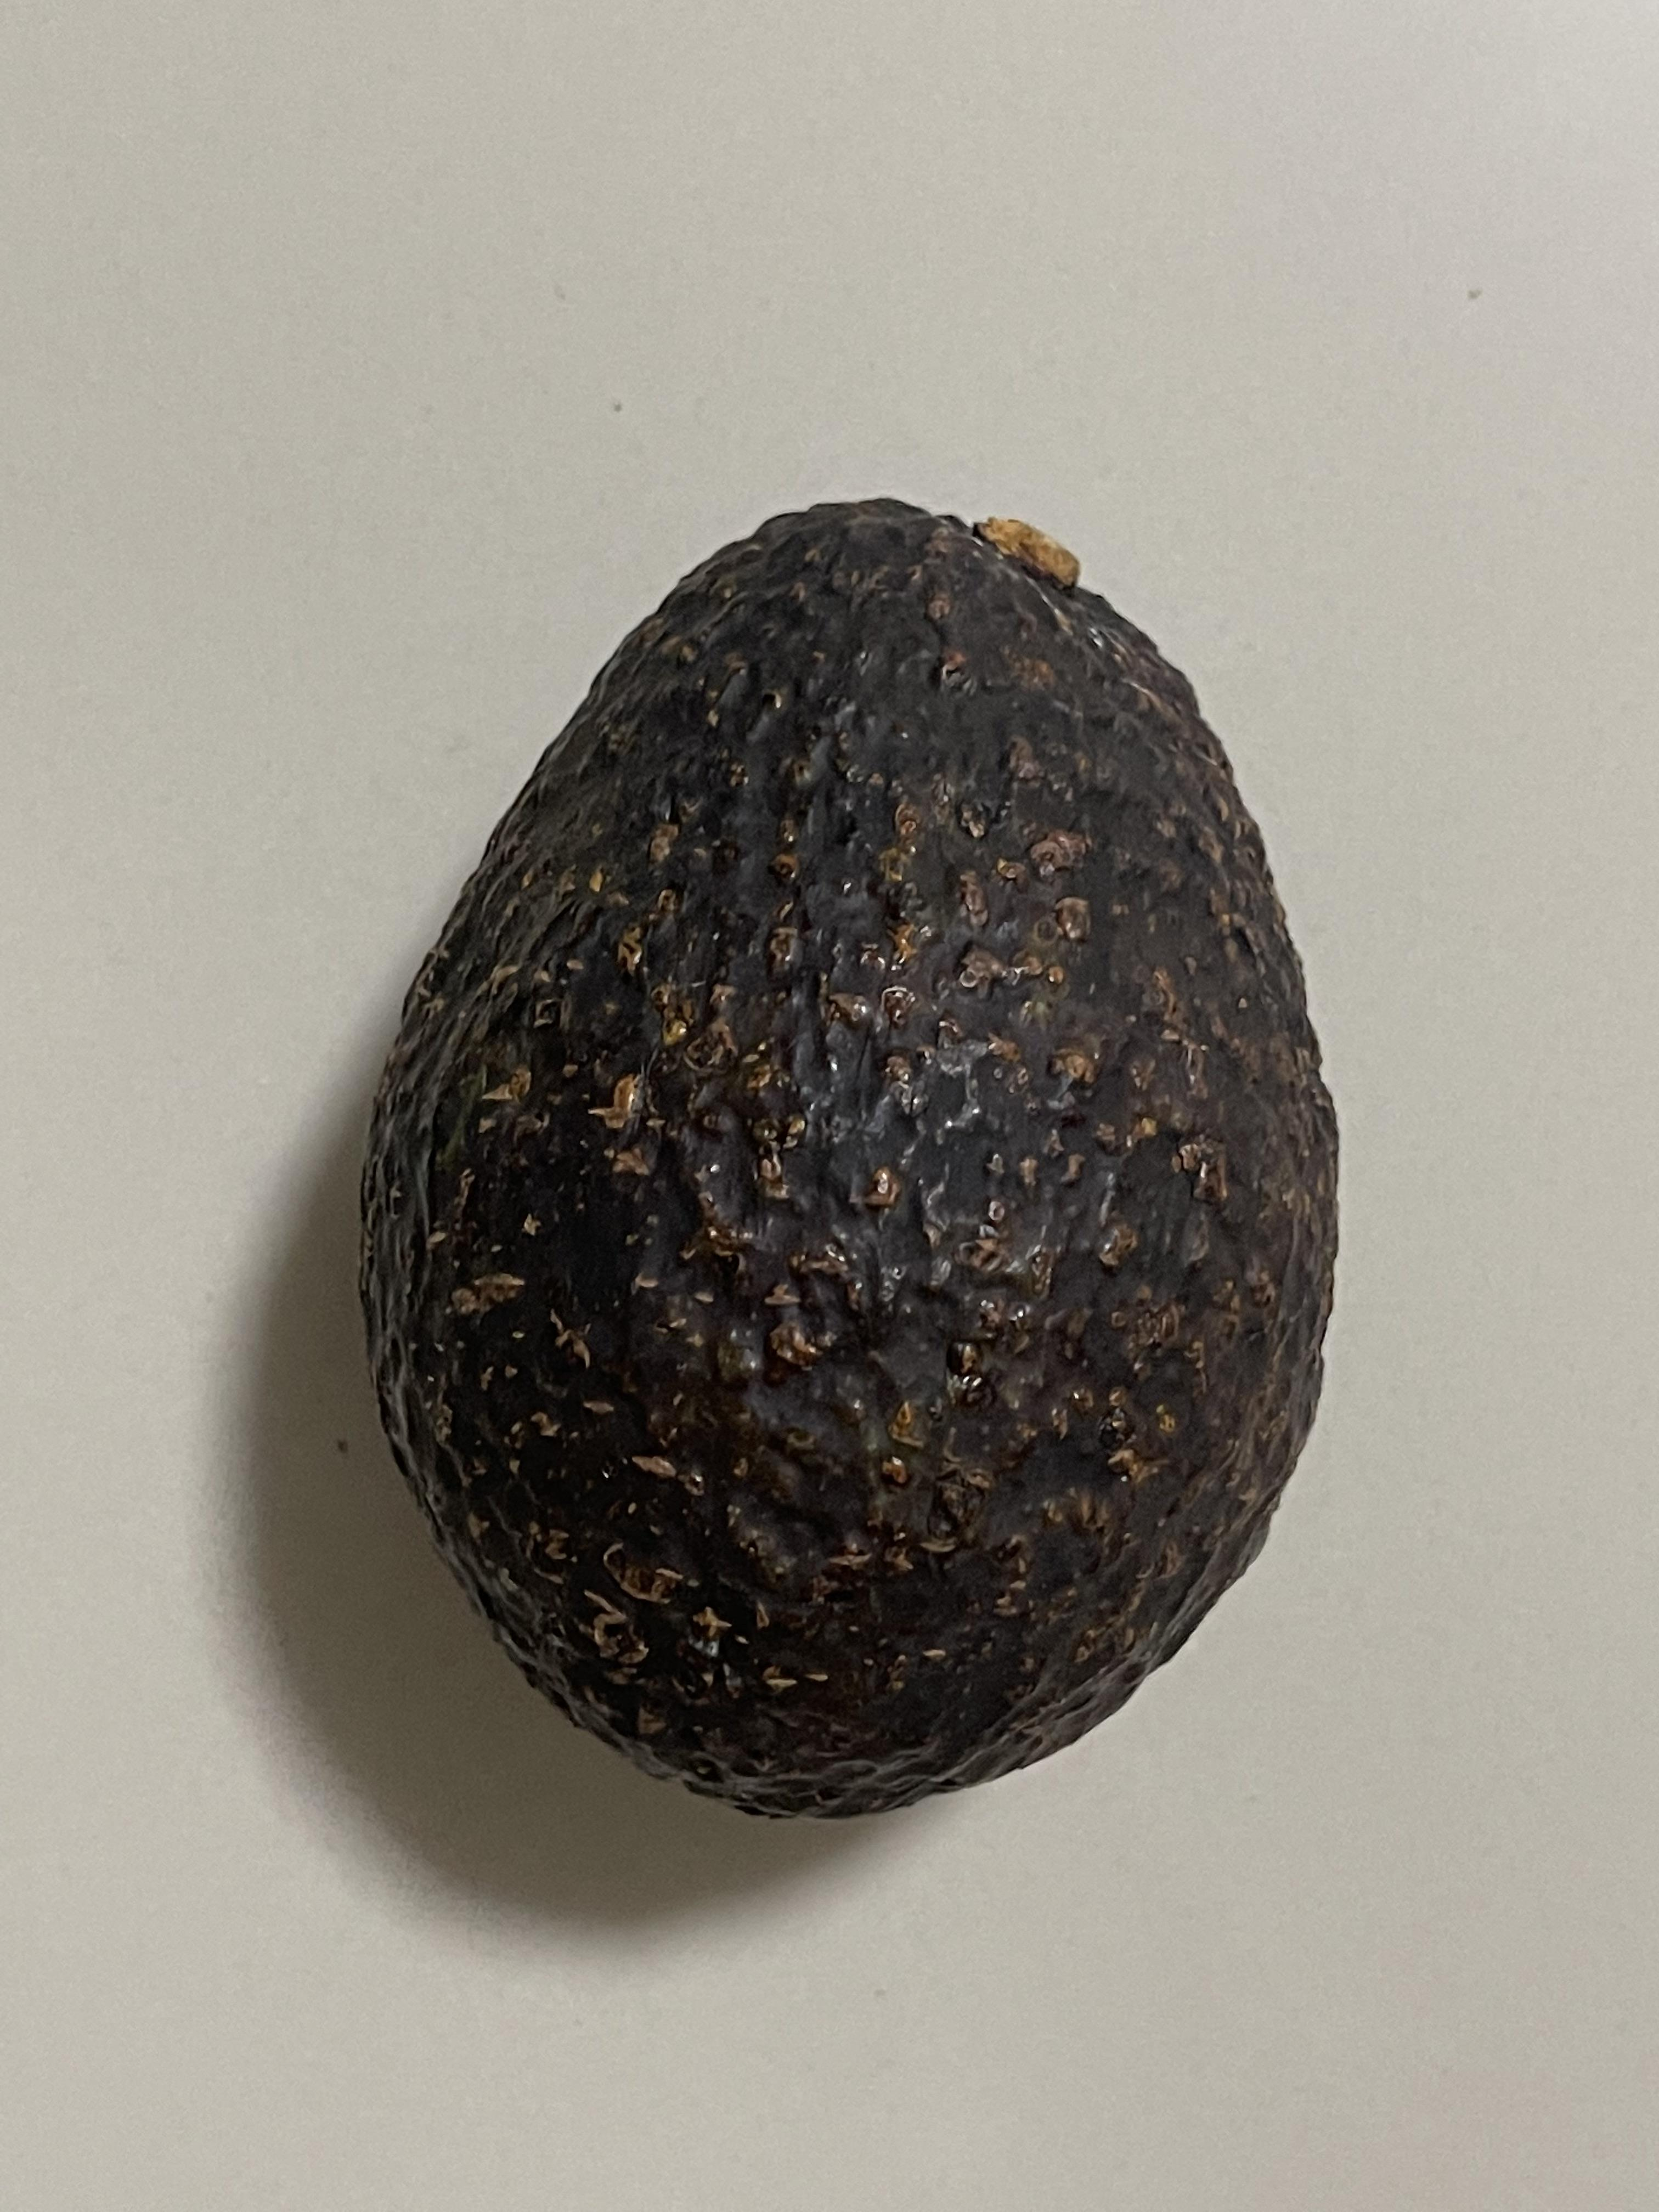Level3: (335, 467, 1370, 1844)
